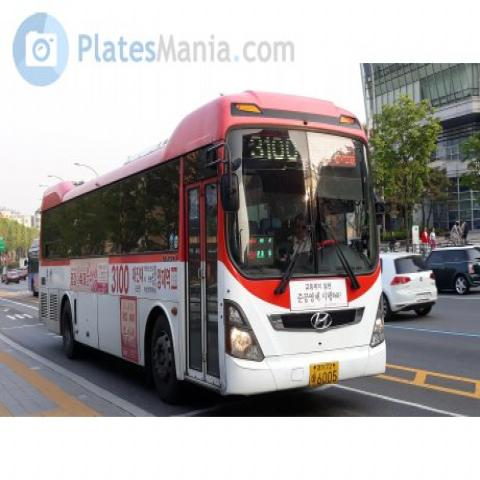LP: (308, 355, 346, 392)
